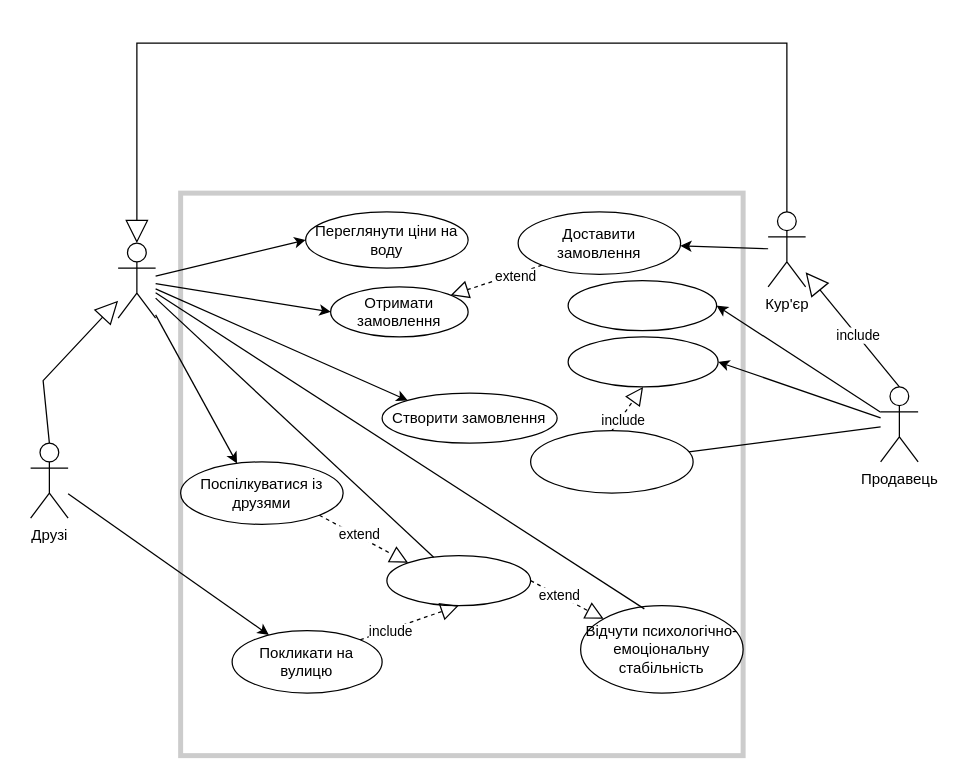
Some shapes in this 959 by 780 pixel diagram are drawn without their labels. Each missing label, with the box of its shape:
Запакувати необхідну кількість води: (529, 429, 693, 493)
отримати кількість води: (567, 336, 718, 387)
Передати воду: (567, 279, 717, 331)
Провести час на вулиці: (386, 554, 531, 606)
Споживач: (117, 242, 156, 318)
